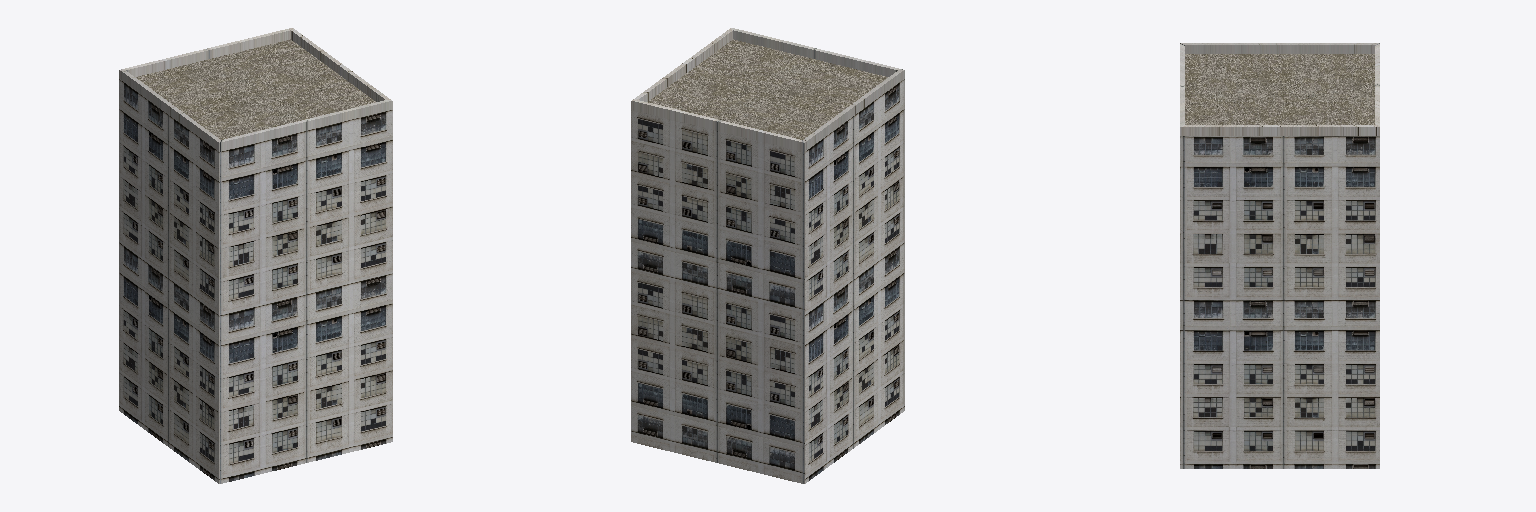
3 views of the same model, side by side, from view 1: azimuth 30°, elevation 25°; view 2: azimuth 150°, elevation 25°; view 3: azimuth 270°, elevation 25° (orthographic).
Visible parts, largest first — view 1: pCube1; view 2: pCube1; view 3: pCube1.
Boxes of the visible parts, <box> form: pCube1: <box>119,28,392,483</box>; pCube1: <box>631,28,904,483</box>; pCube1: <box>1180,43,1379,468</box>.
Size of the model in its own units: 9.87 by 18.61 by 9.87.
2 materials, 2 textured.